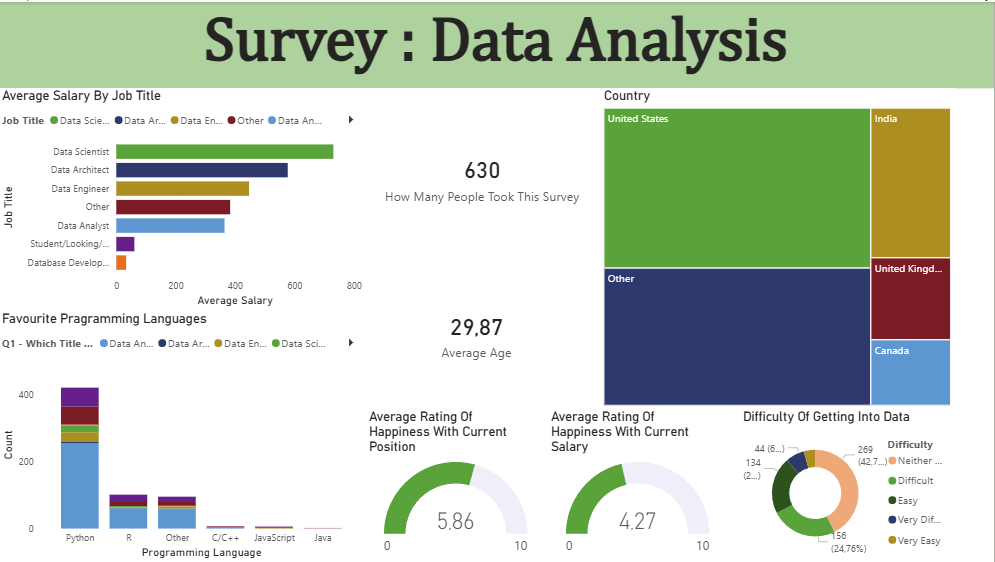

The page's visual inventory and layout, read from the dashboard file:
{"tool":"powerbi","page":{"name":"Page 1","canvas":[1280,720],"ordinal":0},"visuals":[{"type":"textbox","box":[0,0,1280,110.9],"z":0},{"type":"card","fields":{"Values":["CountNonNull(Data Professional Survey.Unique ID)"]},"box":[472.3,110.6,301,229.6],"z":1000},{"type":"card","fields":{"Values":["Avg(Data Professional Survey.Q10 - Current Age)"]},"box":[472.3,327.1,286.7,196.3],"z":2000},{"type":"barChart","title":"Average Salary By Job Title","fields":{"Category":["Data Professional Survey.Q1 - Which Title Best Fits your Current Role?.1"],"Y":["Avg(Data Professional Survey.Average Salary)"],"Series":["Data Professional Survey.Q1 - Which Title Best Fits your Current Role?.1"]},"box":[0,110.9,472.7,286],"z":3000},{"type":"columnChart","title":"Favourite Pragramming Languages","fields":{"Category":["Data Professional Survey.Q5 - Favorite Programming Language.1"],"Y":["CountNonNull(Data Professional Survey.Unique ID)"],"Series":["Data Professional Survey.Q1 - Which Title Best Fits your Current Role?.1"]},"box":[0,396.8,472.7,322.9],"z":4000},{"type":"treemap","title":"Country","fields":{"Group":["Data Professional Survey.Q11 - Which Country do you live in?.1"],"Values":["CountNonNull(Data Professional Survey.Q11 - Which Country do you live in?.1)"]},"box":[773.2,110.6,455.6,412.8],"z":5000},{"type":"gauge","title":"Average Rating Of Happiness With Current Salary","fields":{"Y":["Avg(Data Professional Survey.Q6 - How Happy are you in your Current Position with the following? (Salary))"],"MinValue":["Min(Data Professional Survey.Q6 - How Happy are you in your Current Position with the following? (Salary))"],"MaxValue":["Max(Data Professional Survey.Q6 - How Happy are you in your Current Position with the following? (Salary))"]},"box":[705.4,523.4,233.2,196.3],"z":6000},{"type":"gauge","title":"Average Rating Of Happiness With Current Position","fields":{"Y":["Avg(Data Professional Survey.Q6 - How Happy are you in your Current Position with the following? (Coworkers))"],"MinValue":["Min(Data Professional Survey.Q6 - How Happy are you in your Current Position with the following? (Coworkers))1"],"MaxValue":["Max(Data Professional Survey.Q6 - How Happy are you in your Current Position with the following? (Coworkers))2"]},"box":[472.3,523.4,233.2,196.3],"z":7000},{"type":"donutChart","title":"Difficulty Of Getting Into Data","fields":{"Category":["Data Professional Survey.Q7 - How difficult was it for you to break into Data?"],"Y":["CountNonNull(Data Professional Survey.Q7 - How difficult was it for you to break into Data?)"]},"box":[952.9,523.4,276,195.1],"z":8000}]}

Visuals, with their boxes in screenshot pixels (x1, y1, x2, y2), scaled from the page's 1280x720 canvas onto the 995x562 screenshot:
textbox: pyautogui.locateOnScreen(0, 0, 994, 87)
card - CountNonNull(Data Professional Survey.Unique ID): pyautogui.locateOnScreen(367, 86, 601, 266)
card - Avg(Data Professional Survey.Q10 - Current Age): pyautogui.locateOnScreen(367, 255, 590, 409)
"Average Salary By Job Title" barChart: pyautogui.locateOnScreen(0, 87, 367, 310)
"Favourite Pragramming Languages" columnChart: pyautogui.locateOnScreen(0, 310, 367, 561)
"Country" treemap: pyautogui.locateOnScreen(601, 86, 955, 409)
"Average Rating Of Happiness With Current Salary" gauge: pyautogui.locateOnScreen(548, 409, 730, 561)
"Average Rating Of Happiness With Current Position" gauge: pyautogui.locateOnScreen(367, 409, 548, 561)
"Difficulty Of Getting Into Data" donutChart: pyautogui.locateOnScreen(741, 409, 955, 561)
